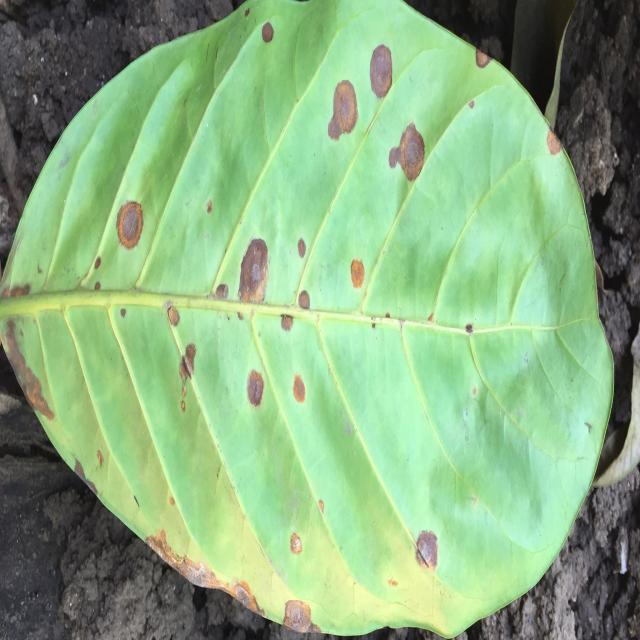Enfermedad-Mancha-de-hierro: (0, 0, 614, 640)
